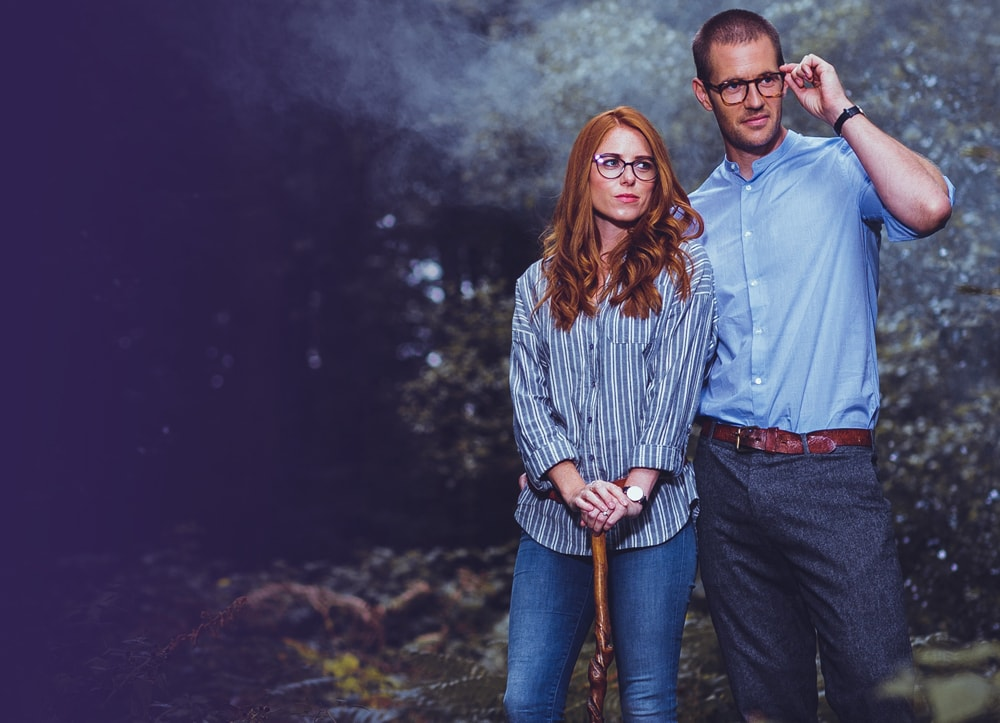jeans: (510, 522, 676, 722)
sunglasses: (589, 153, 660, 180), (708, 76, 784, 99)
